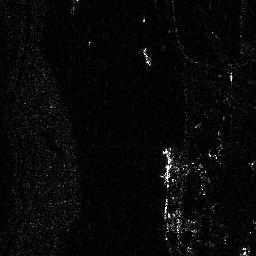ship: (141, 45, 151, 65)
